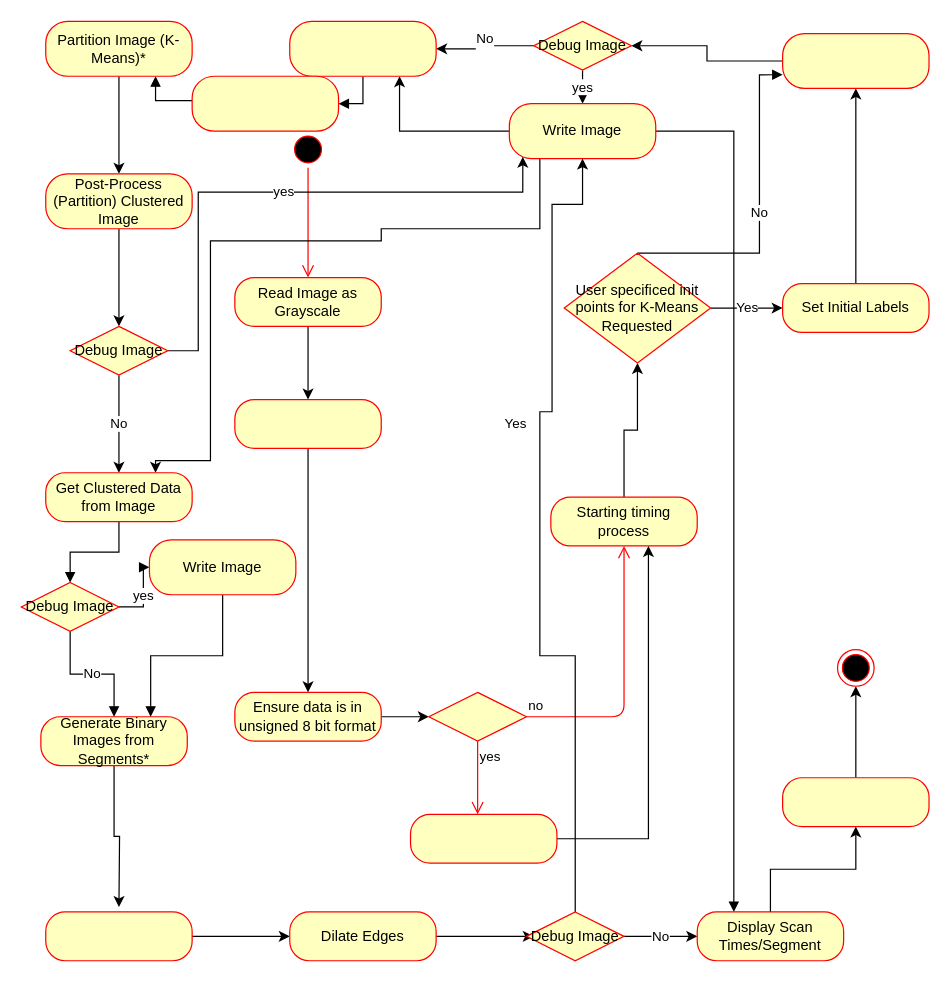
Some shapes in this 950 by 982 pixel diagram are drawn without their labels. The centre of each missing label's shape, as x and y in pixels:
"Apply Canny Edge Detection Operator" goes at (x=118, y=936).
"Call L-G Graph*" goes at (x=855, y=802).
"Debug Flag" goes at (x=477, y=716).
"Fast Means Denoise Image" goes at (x=362, y=48).
"Set OpenCV Termination Criteria for Algorithms" goes at (x=307, y=423).
"Sharpen Image" goes at (x=855, y=60).
"Write Denoised Image to Disk" goes at (x=265, y=103).
"Write model image in grayscale format" goes at (x=483, y=838).
